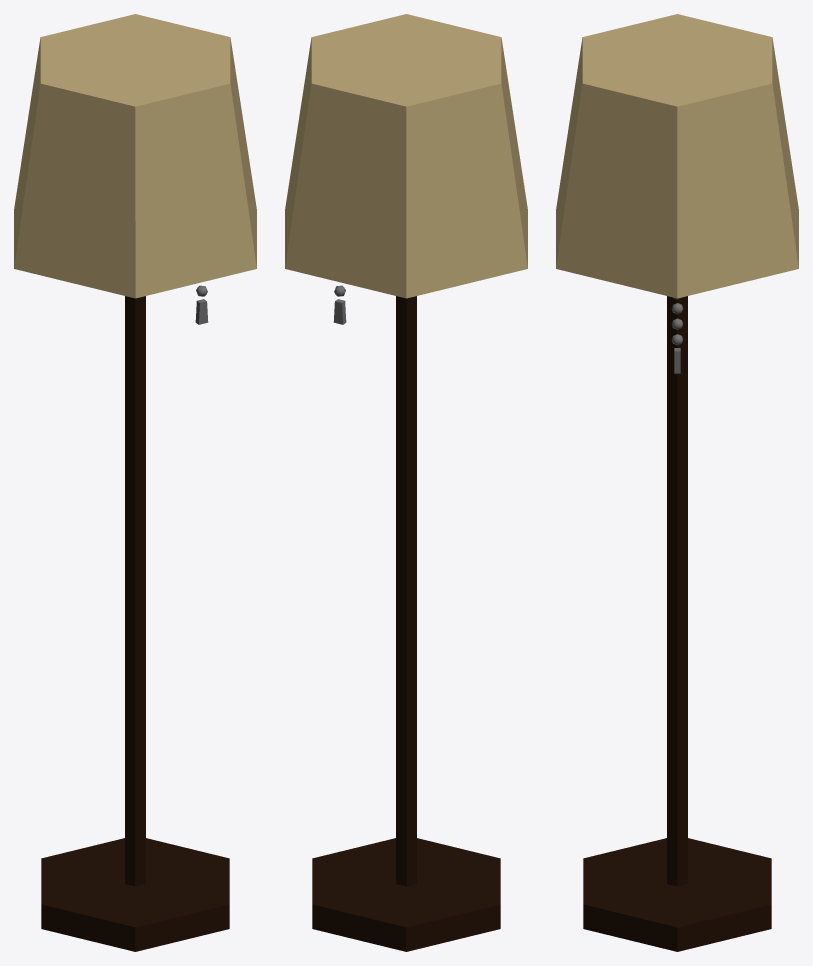
File: RoomLamp.fbx
3 views of the same model, side by side, from view 1: azimuth 30°, elevation 25°; view 2: azimuth 150°, elevation 25°; view 3: azimuth 270°, elevation 25° (orthographic).
Visible parts, largest first — view 1: RoomLamp; view 2: RoomLamp; view 3: RoomLamp.
Part boxes in pixels (bbox=[...]): RoomLamp: bbox=[14, 14, 256, 951]; RoomLamp: bbox=[285, 14, 527, 951]; RoomLamp: bbox=[556, 14, 798, 951].
Size of the model in its own units: 0.0172 by 0.0572 by 0.0149.
